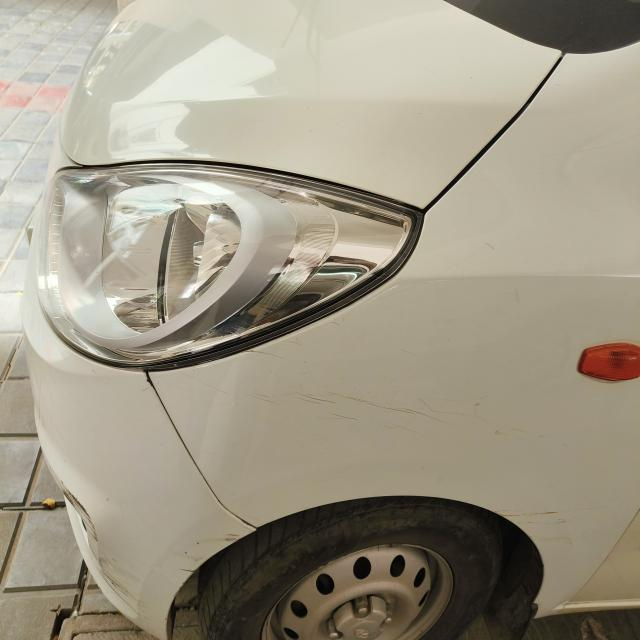scratch: (201, 373, 501, 429), (54, 474, 143, 624), (174, 526, 275, 582), (500, 506, 580, 559)
